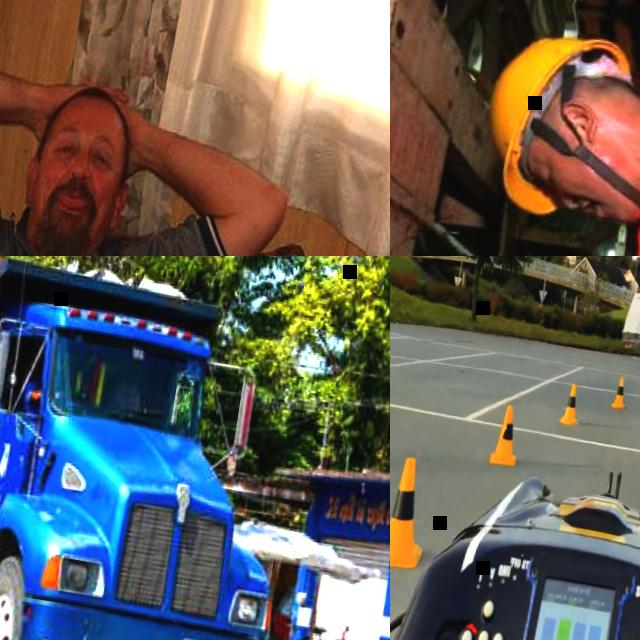Hardhat: (472, 18, 638, 227)
NO-Hardhat: (51, 82, 136, 143)
NO-Mask: (14, 165, 123, 256), (570, 115, 640, 228)
Person: (0, 43, 308, 256), (446, 0, 640, 256)
Safety Cone: (390, 447, 435, 575), (490, 402, 523, 469), (558, 379, 582, 427), (611, 374, 629, 411)
vehicle: (0, 256, 324, 640), (390, 428, 640, 640)
